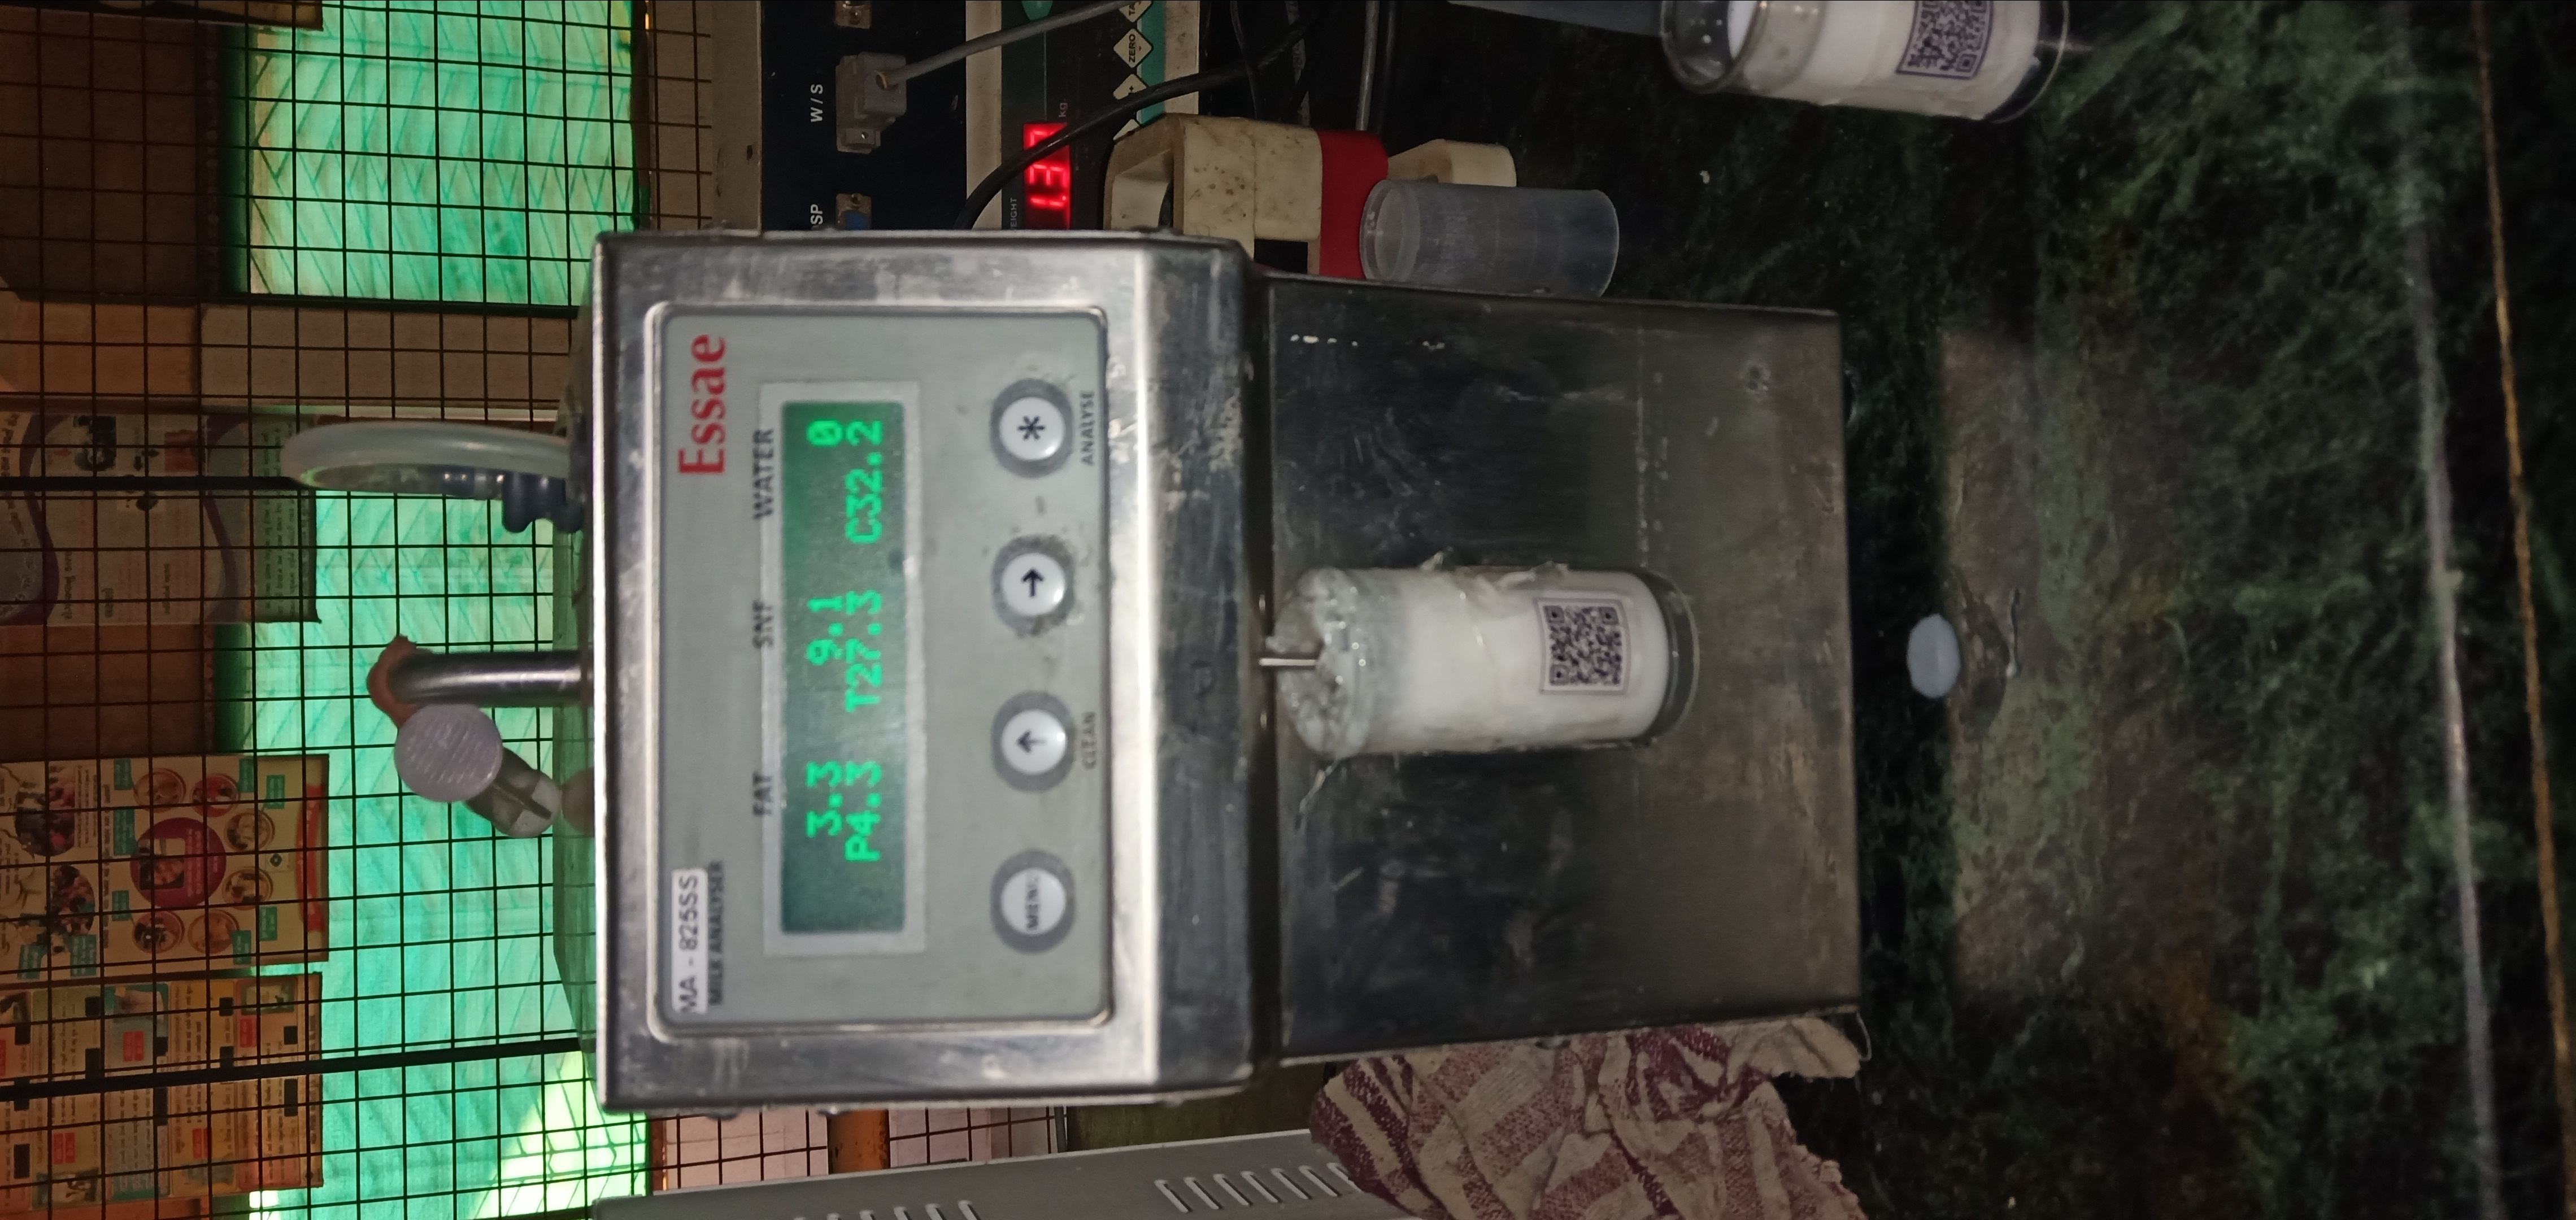lcd: (761, 386, 935, 961)
qr: (1896, 0, 2026, 84), (1541, 594, 1633, 695)
